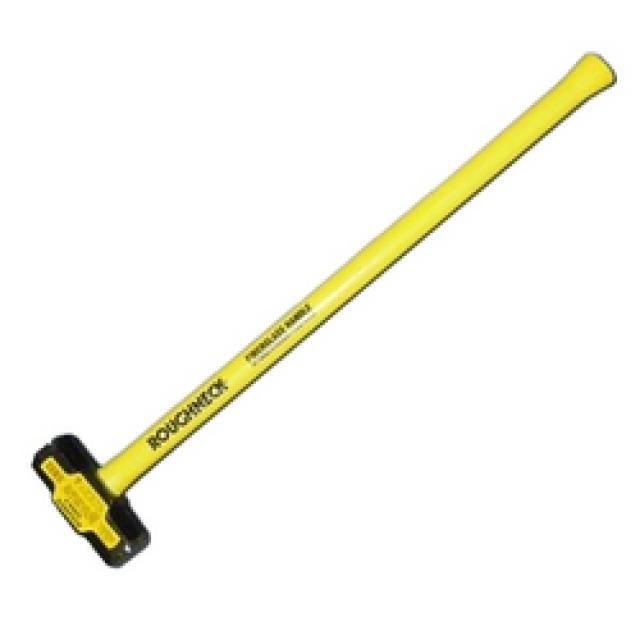hammer: (26, 45, 620, 587)
